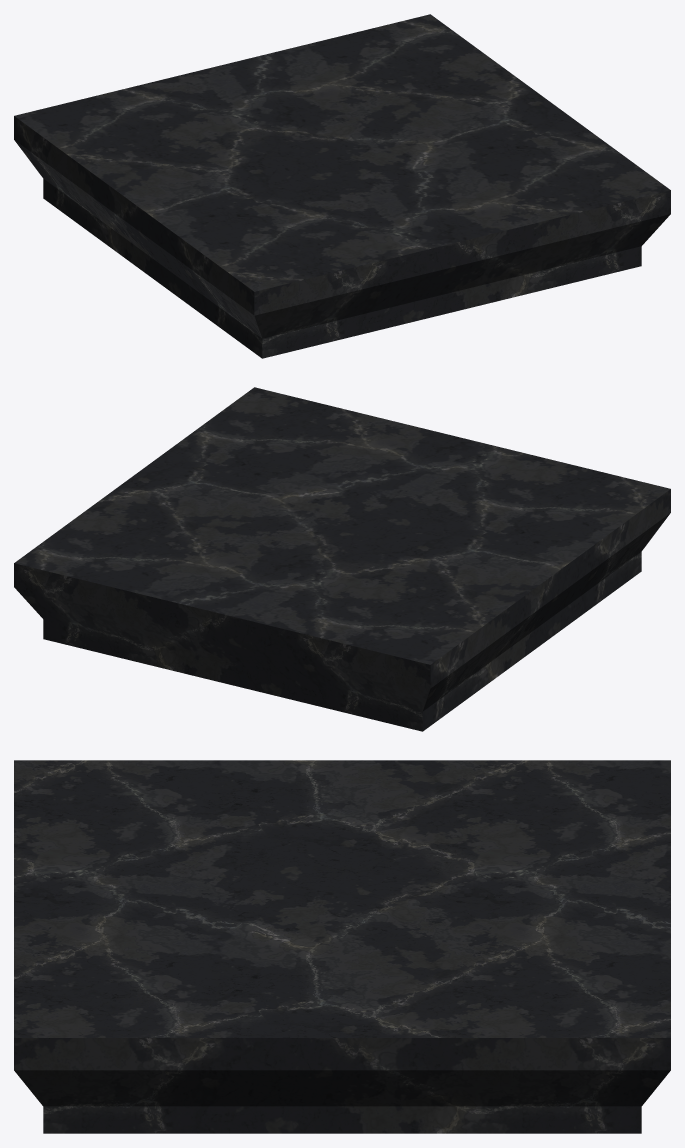
The model's file is pillar_top.glb.
3 views of the same model, one above another, from view 1: azimuth 30°, elevation 25°; view 2: azimuth 150°, elevation 25°; view 3: azimuth 270°, elevation 25° (orthographic). The views are drawn at different scales.
Visible parts, largest first — view 1: Cube; view 2: Cube; view 3: Cube.
Part boxes in pixels (<box>): Cube: <box>14,14,670,358</box>; Cube: <box>14,387,670,731</box>; Cube: <box>14,760,670,1133</box>.
Bounding box in the file's own units: 7.32 × 1.33 × 7.32.
1 material, 1 textured.
